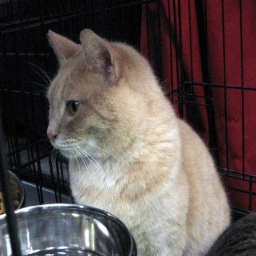cat: (38, 25, 229, 256)
